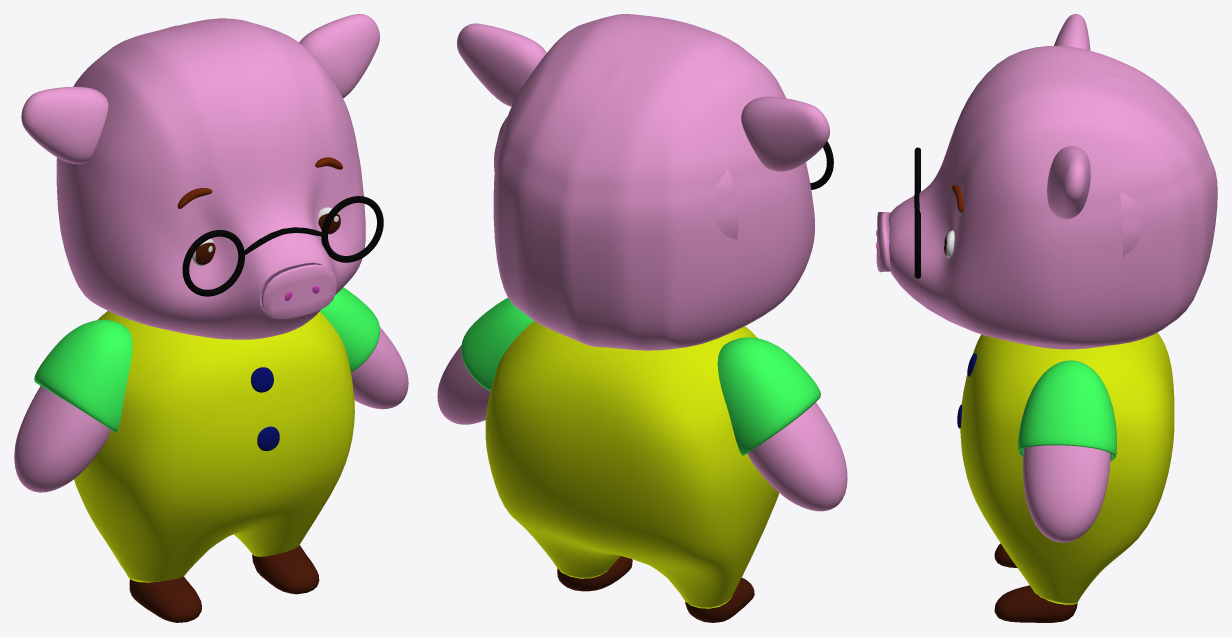
The model's file is second pig.fbx.
3 renders of one model, left to right at view 1: azimuth 30°, elevation 25°; view 2: azimuth 150°, elevation 25°; view 3: azimuth 270°, elevation 25°, orthographic. The views are drawn at different scales.
Visible parts, largest first — view 1: head.001, body.001, shirt.001, arm.001, ear.001, shoe.001, nose.001, glasses, eye.001, eyebrow.001; view 2: head.001, body.001, shirt.001, ear.001, arm.001, shoe.001; view 3: head.001, body.001, arm.001, shirt.001, ear.001, shoe.001, glasses, nose.001.
Boxes of the visible parts, x1,y1,x2,y2 form: head.001: (56,18,365,339); body.001: (74,311,354,582); shirt.001: (34,287,379,432); arm.001: (14,327,408,492); ear.001: (21,14,379,164); shoe.001: (129,545,319,622); nose.001: (259,262,336,318); glasses: (182,196,383,296); eye.001: (192,207,340,265); eyebrow.001: (177,157,342,208); head.001: (493,14,814,350); body.001: (485,321,779,608); shirt.001: (461,298,820,455); ear.001: (457,23,829,171); arm.001: (437,345,847,511); shoe.001: (557,556,754,622); head.001: (888,46,1217,349); body.001: (960,332,1174,604); arm.001: (1022,445,1110,542); shirt.001: (1018,360,1116,461); ear.001: (1047,14,1090,219); shoe.001: (994,543,1077,622); glasses: (914,147,920,278); nose.001: (876,212,891,272).
Size of the model in its own units: 144 by 199 by 118.
